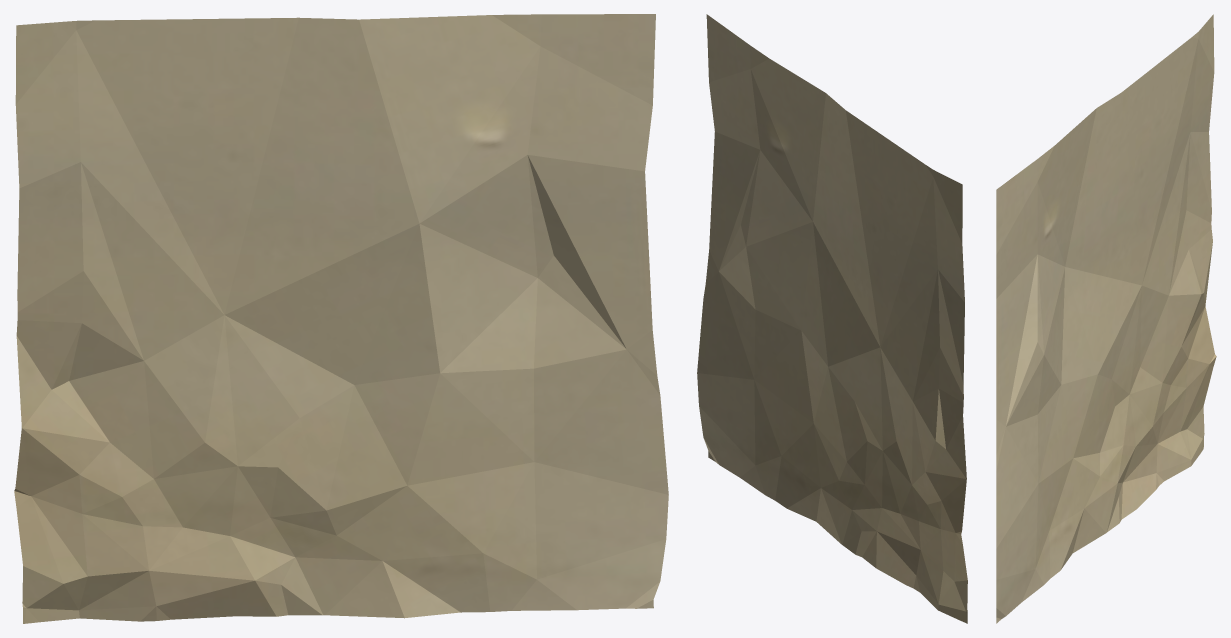
3 renders of one model, left to right at view 1: azimuth 30°, elevation 25°; view 2: azimuth 150°, elevation 25°; view 3: azimuth 270°, elevation 25°, orthographic. The views are drawn at different scales.
Bounding box in the file's own units: 0.7442 × 0.8374 × 0.3846.
Materials: 3 (3 with a texture image).
